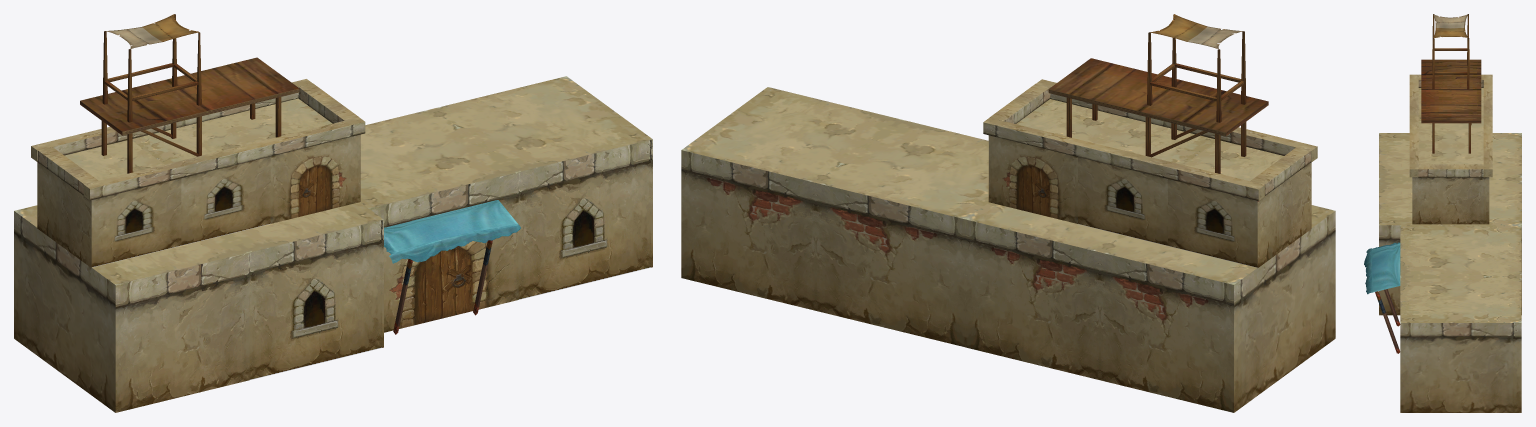
File: shamo_fangzi_3.fbx
3 views of the same model, side by side, from view 1: azimuth 30°, elevation 25°; view 2: azimuth 150°, elevation 25°; view 3: azimuth 270°, elevation 25° (orthographic). The views are drawn at different scales.
Parts seen in each view (by area): view 1: polySurface97, polySurface98, polySurface99, polySurface101, polySurface100, polySurface110, polySurface102, polySurface107, polySurface103, polySurface123, polySurface105, polySurface104; view 2: polySurface98, polySurface97, polySurface99, polySurface101, polySurface100, polySurface110, polySurface103, polySurface102, polySurface123, polySurface105, polySurface104; view 3: polySurface98, polySurface97, polySurface110, polySurface106, polySurface107, polySurface101, polySurface100, polySurface103, polySurface102, polySurface104, polySurface123, polySurface108 (+2 smaller).
Part boxes in pixels (x1,y1,x2,y2): polySurface97: [14, 202, 383, 412]; polySurface98: [360, 76, 652, 332]; polySurface99: [37, 140, 181, 267]; polySurface101: [132, 117, 270, 245]; polySurface100: [220, 98, 360, 223]; polySurface110: [80, 57, 299, 135]; polySurface102: [83, 117, 365, 200]; polySurface107: [384, 200, 520, 263]; polySurface103: [31, 79, 312, 161]; polySurface123: [106, 14, 199, 48]; polySurface105: [38, 147, 98, 195]; polySurface104: [298, 83, 358, 123]; polySurface98: [681, 87, 988, 347]; polySurface97: [965, 202, 1335, 412]; polySurface99: [1167, 140, 1311, 267]; polySurface101: [1078, 118, 1214, 245]; polySurface100: [988, 99, 1128, 223]; polySurface110: [1048, 58, 1268, 136]; polySurface103: [983, 118, 1264, 200]; polySurface102: [1036, 79, 1317, 162]; polySurface123: [1150, 14, 1242, 48]; polySurface105: [1250, 147, 1310, 195]; polySurface104: [989, 84, 1050, 123]; polySurface98: [1400, 225, 1521, 412]; polySurface97: [1379, 133, 1521, 315]; polySurface110: [1421, 59, 1481, 123]; polySurface106: [1412, 177, 1489, 224]; polySurface107: [1364, 242, 1400, 294]; polySurface101: [1418, 115, 1483, 145]; polySurface100: [1418, 145, 1483, 164]; polySurface103: [1483, 74, 1492, 177]; polySurface102: [1409, 74, 1418, 177]; polySurface104: [1418, 164, 1483, 177]; polySurface123: [1433, 14, 1467, 37]; polySurface108: [1375, 291, 1400, 353].
Bounding box in the file's own units: 29.52 × 16.5 × 10.3.
